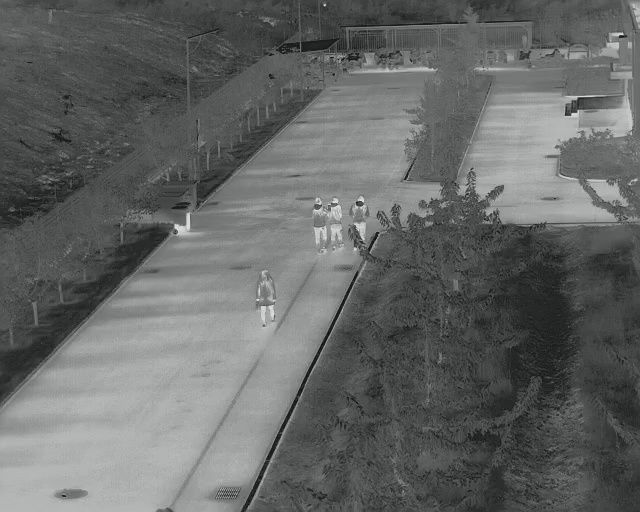person: (255, 268, 276, 327), (312, 197, 327, 253), (328, 198, 344, 248), (349, 195, 369, 232)
